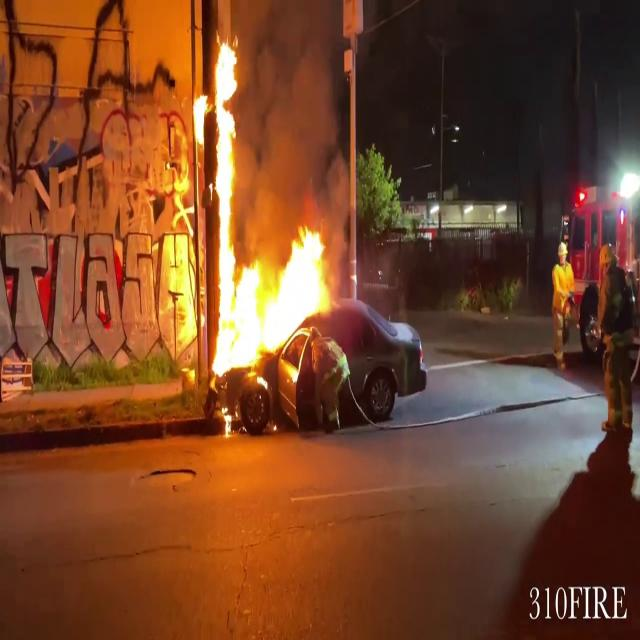Fire: (219, 219, 334, 374), (208, 42, 240, 272)
Smoke: (236, 0, 360, 226)
